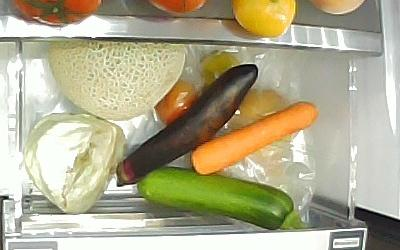cabbage: (23, 113, 126, 215)
carrot: (191, 101, 319, 175)
eggplant: (116, 62, 259, 187)
melon: (47, 43, 185, 121)
pear_vinyl: (230, 90, 287, 132)
prune_vinyl: (154, 79, 197, 123)
tangerine_vinyl: (199, 51, 239, 90)
zucchini: (138, 166, 312, 230)
